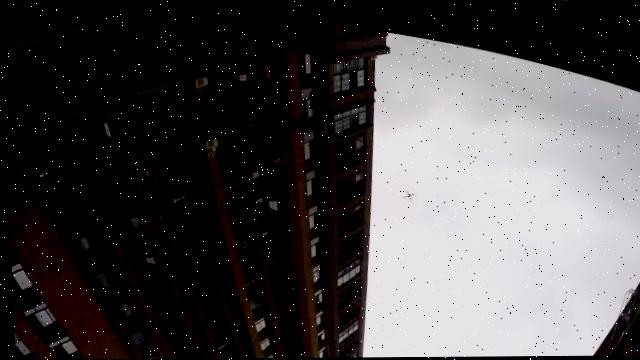drone: (400, 191, 414, 204)
